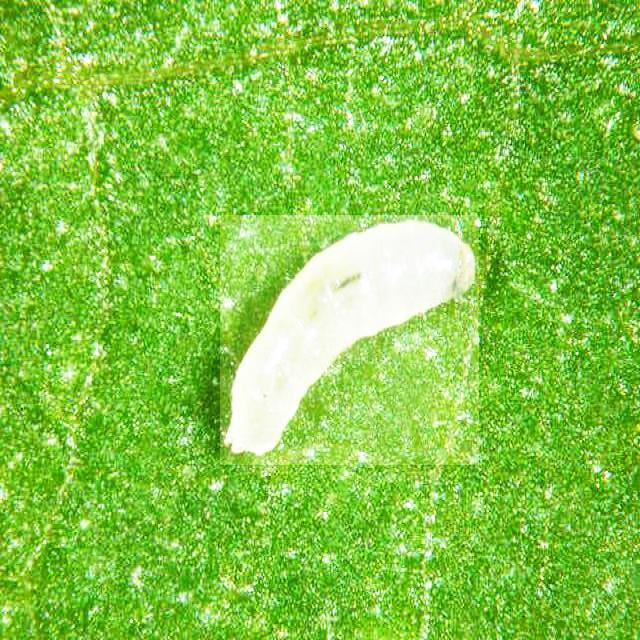whorl-maggot: (220, 215, 479, 465)
